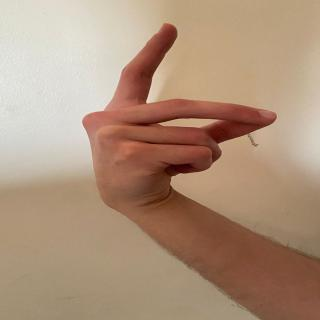TAA: (78, 15, 302, 198)
